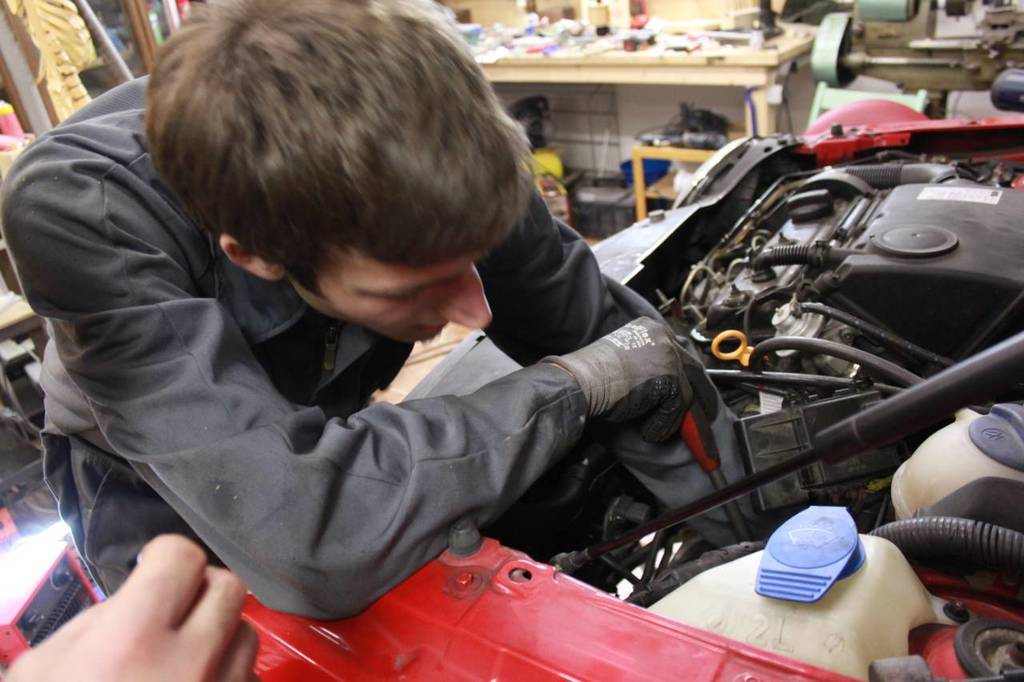Person: (0, 0, 757, 621)
